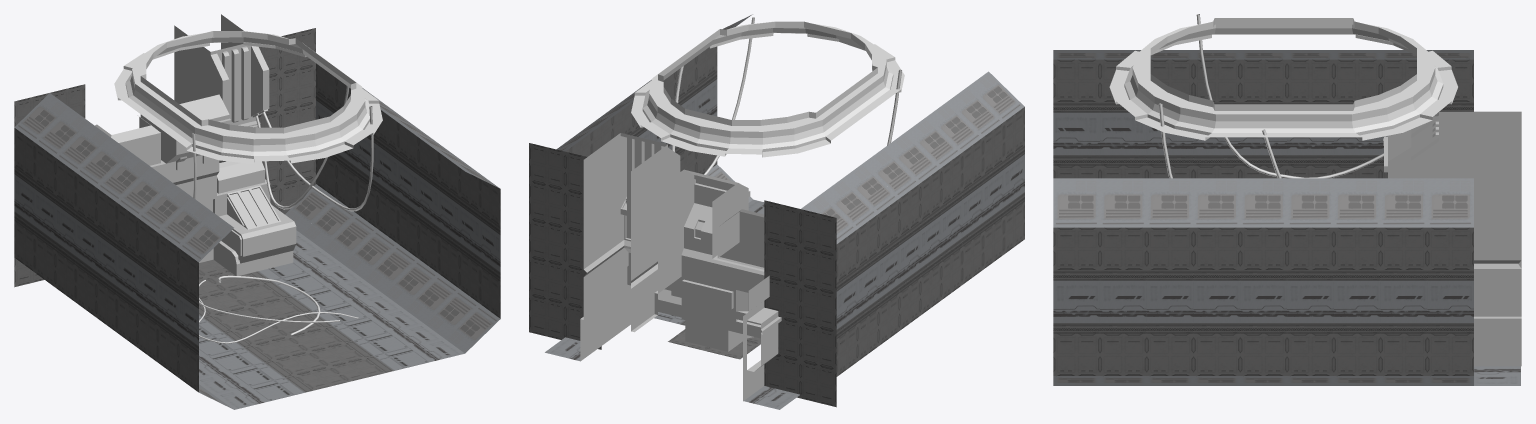
Rendered from Intro.fbx.
The picture shows the model from 3 angles, left to right: view 1: azimuth 30°, elevation 25°; view 2: azimuth 150°, elevation 25°; view 3: azimuth 270°, elevation 25°; orthographic projection. The views are drawn at different scales.
Visible parts, largest first — view 1: SuperComputer, 1x4Plaine3.013, Cylinder.002, Plane1_LP.002, Plane1_LP.003, Plane1_LP.008, Plane1_LP.009, Plane1_LP.001, Plane4_LP.012, Plane4.031, Plane4.016, Plane4.040 (+2 smaller); view 2: SuperComputer, Cylinder.002, Plane4.040, Plane1_LP.008, Plane1_LP.002, Plane1_LP.009, Plane4.016, Plane1_LP.003, Plane1_LP.001, Plane4.031, Plane4_LP.014, 1x4Plaine3.013 (+2 smaller); view 3: Plane1_LP.001, Plane1_LP.003, Plane4.031, Cylinder.002, SuperComputer, Plane1_LP.002, Plane1_LP.008, Plane1_LP.009, BezierCurve.012, Plane4_LP.013.
Boxes of the visible parts, x1=… form: SuperComputer: x1=95, y1=14, x2=296, y2=275; 1x4Plaine3.013: x1=199, y1=230, x2=464, y2=381; Cylinder.002: x1=114, y1=31, x2=382, y2=164; Plane1_LP.002: x1=137, y1=183, x2=233, y2=409; Plane1_LP.003: x1=404, y1=127, x2=500, y2=353; Plane1_LP.008: x1=75, y1=138, x2=172, y2=347; Plane1_LP.009: x1=14, y1=93, x2=110, y2=301; Plane1_LP.001: x1=342, y1=98, x2=439, y2=308; Plane4_LP.012: x1=199, y1=272, x2=349, y2=409; Plane4.031: x1=285, y1=63, x2=377, y2=263; Plane4.016: x1=258, y1=28, x2=315, y2=214; Plane4.040: x1=14, y1=84, x2=85, y2=287; SuperComputer: x1=580, y1=133, x2=781, y2=401; Cylinder.002: x1=631, y1=21, x2=904, y2=157; Plane4.040: x1=764, y1=200, x2=836, y2=407; Plane1_LP.008: x1=863, y1=117, x2=962, y2=330; Plane1_LP.002: x1=926, y1=71, x2=1024, y2=284; Plane1_LP.009: x1=801, y1=163, x2=899, y2=376; Plane4.016: x1=529, y1=143, x2=601, y2=349; Plane1_LP.003: x1=654, y1=14, x2=752, y2=202; Plane1_LP.001: x1=591, y1=79, x2=654, y2=153; Plane4.031: x1=556, y1=106, x2=626, y2=156; Plane4_LP.014: x1=744, y1=386, x2=799, y2=409; 1x4Plaine3.013: x1=654, y1=199, x2=764, y2=350; Plane1_LP.001: x1=1193, y1=178, x2=1333, y2=385; Plane1_LP.003: x1=1053, y1=178, x2=1193, y2=385; Plane4.031: x1=1334, y1=178, x2=1473, y2=385; Cylinder.002: x1=1109, y1=18, x2=1457, y2=140; SuperComputer: x1=1383, y1=111, x2=1521, y2=366; Plane1_LP.002: x1=1053, y1=50, x2=1193, y2=178; Plane1_LP.008: x1=1193, y1=50, x2=1333, y2=178; Plane1_LP.009: x1=1334, y1=50, x2=1473, y2=178; BezierCurve.012: x1=1196, y1=14, x2=1383, y2=178; Plane4_LP.013: x1=1474, y1=366, x2=1520, y2=385.
Size of the model in its own units: 850 by 625 by 1002.
